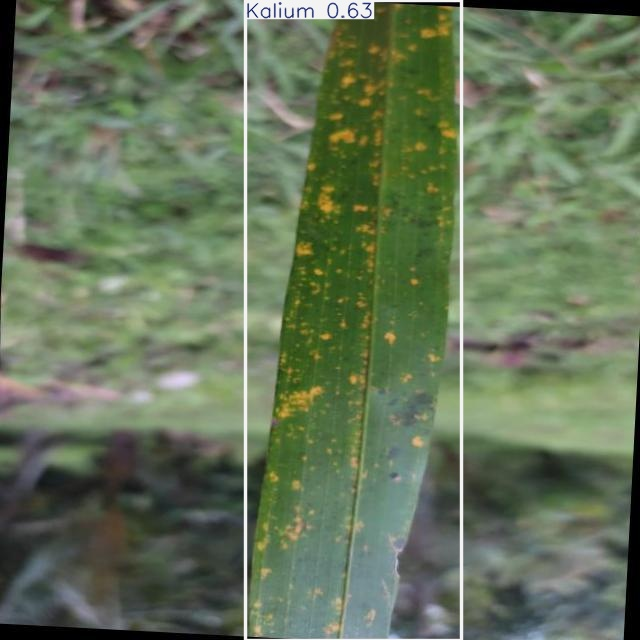Kalium: (246, 1, 461, 640)
